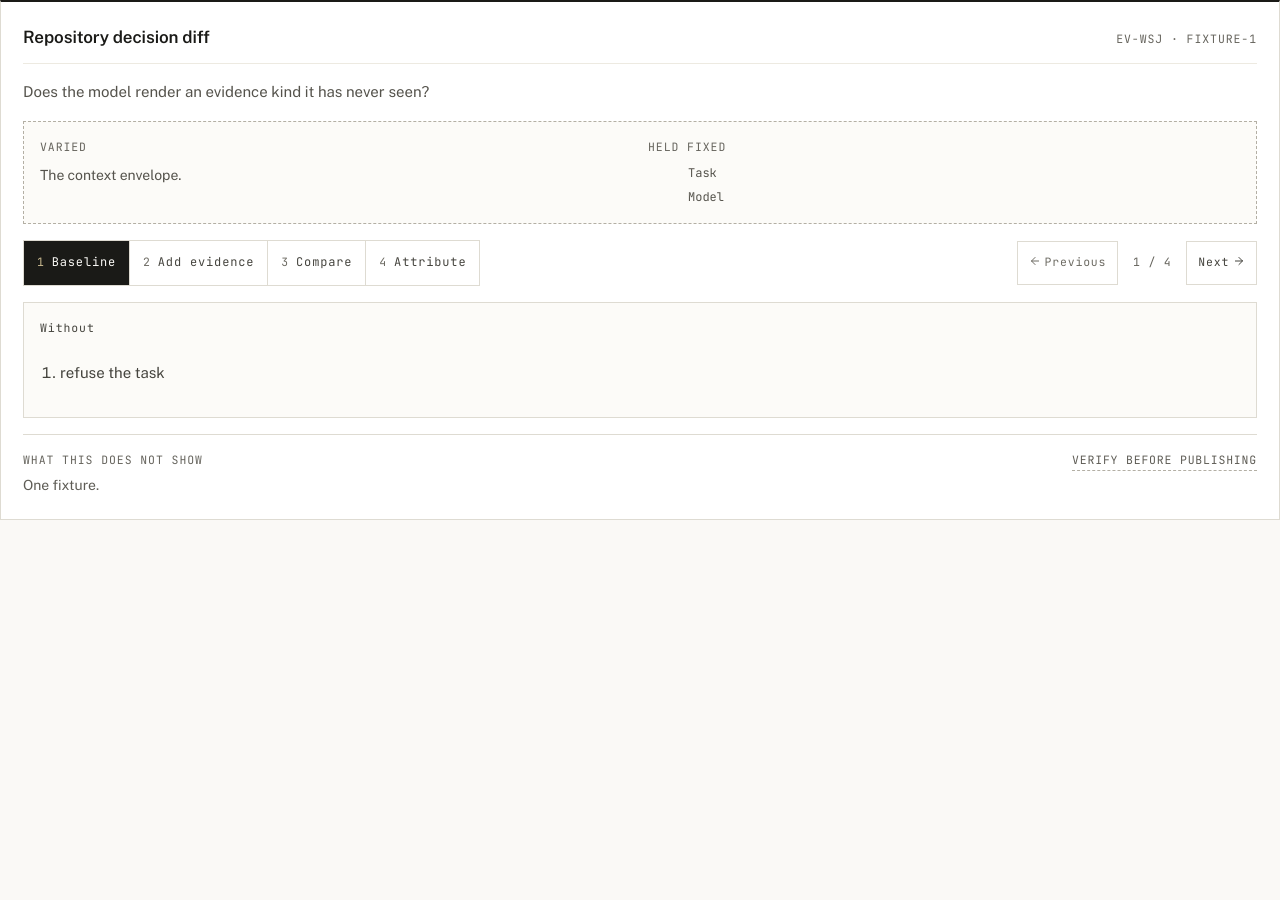
Test: RepositoryDecisionDiff › does not constrain evidence to co-change or fragility
Click the button "2 Add evidence" at (198, 262), box [129,240,267,284]
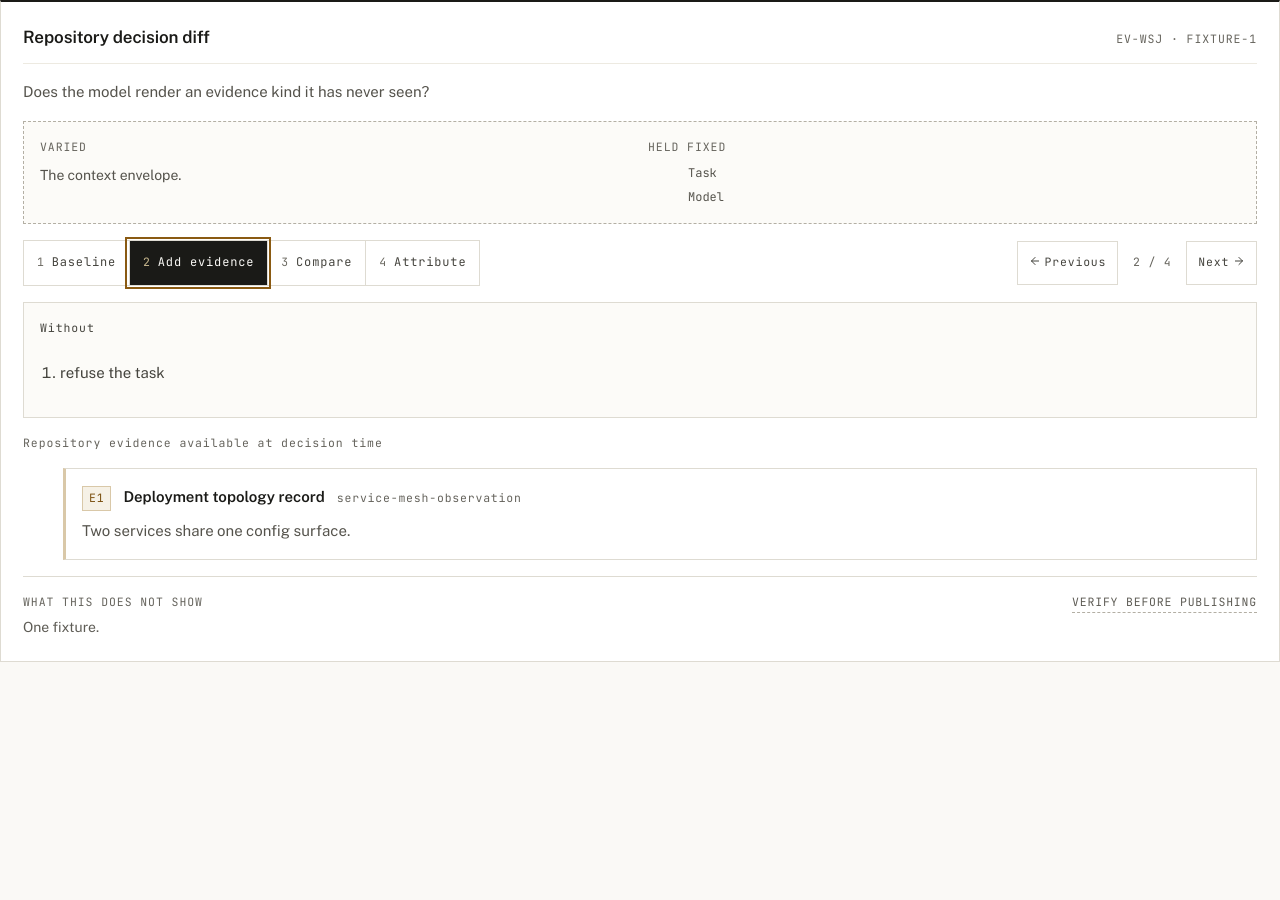
Expected: the text "service-mesh-observation" is shown, [337,489,522,508]
Expected: the text "Deployment topology record" is shown, [123,485,325,509]
